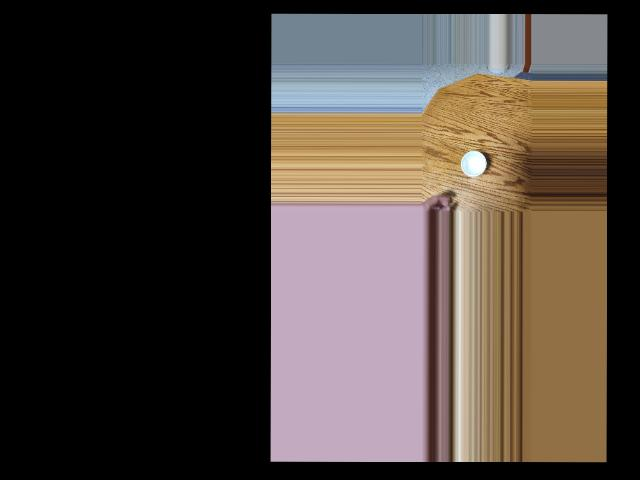cotage: (458, 148, 486, 178)
